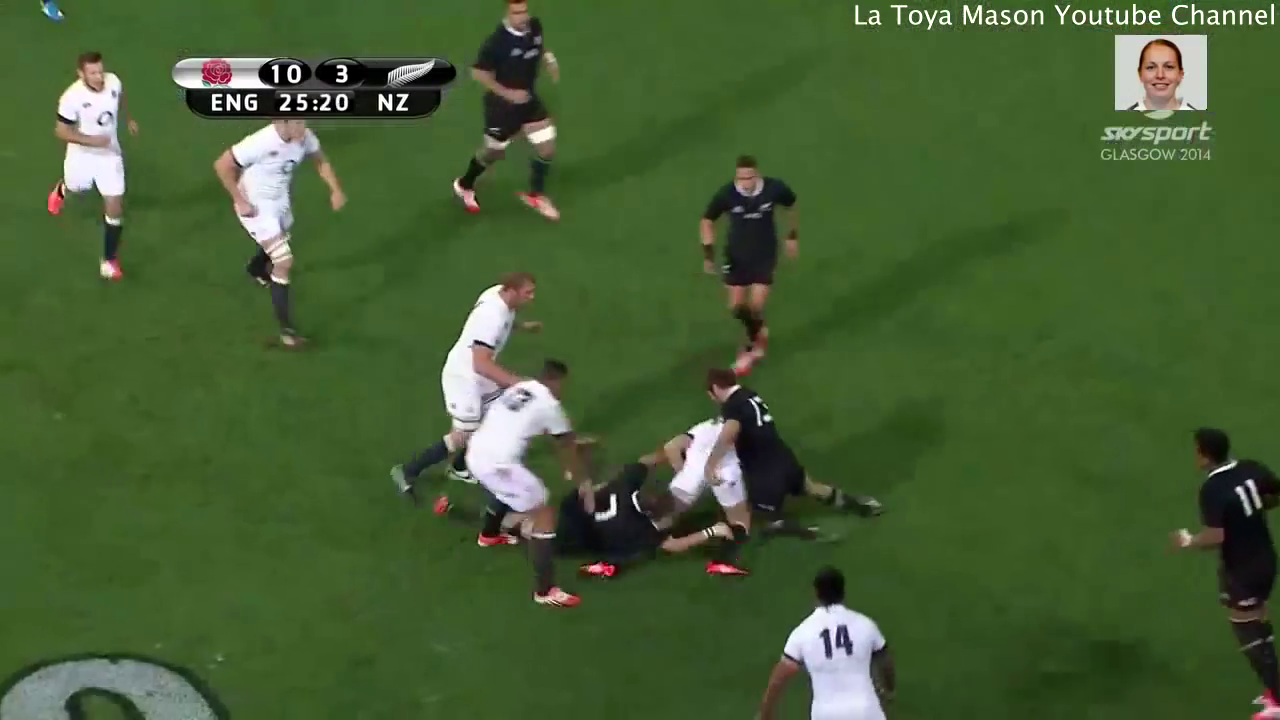player: (373, 246, 548, 512), (452, 344, 602, 629), (1153, 431, 1280, 720), (697, 360, 888, 550), (210, 118, 354, 368), (505, 433, 719, 578), (441, 1, 574, 233), (27, 41, 145, 292), (688, 145, 811, 384), (752, 564, 901, 720), (645, 413, 744, 578)
